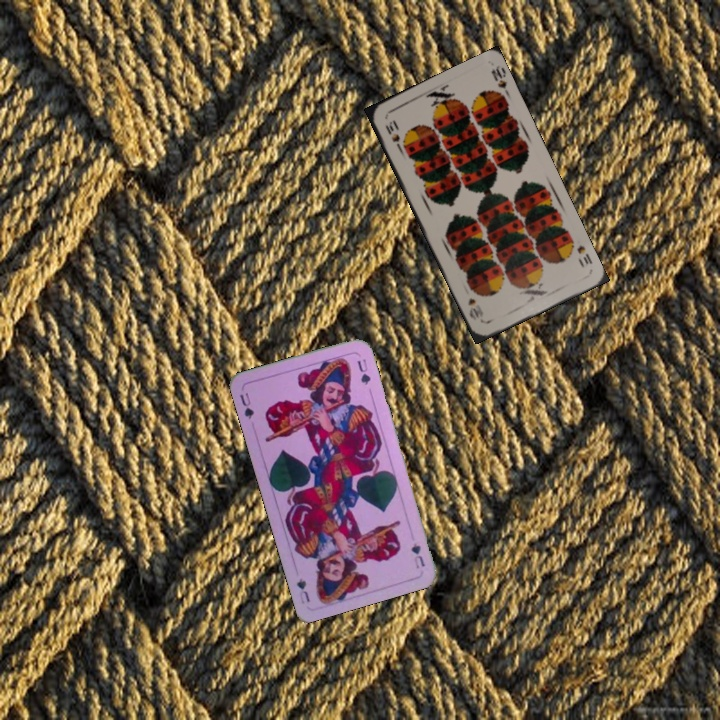GU: (236, 389, 257, 422), (407, 539, 427, 571)
S10: (381, 116, 405, 153), (572, 241, 595, 267)
